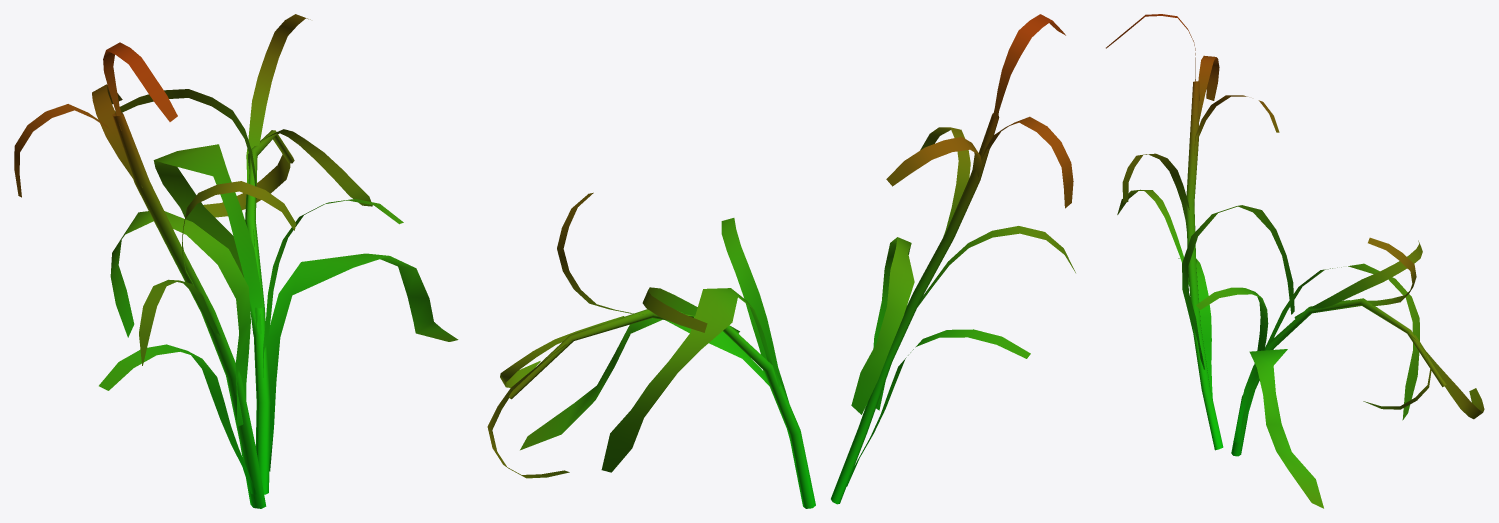
File: tjugaikia_Var4_LOD0.fbx
3 renders of one model, left to right at view 1: azimuth 30°, elevation 25°; view 2: azimuth 150°, elevation 25°; view 3: azimuth 270°, elevation 25°, orthographic. The views are drawn at different scales.
Parts seen in each view (by area): view 1: _b39d_Var4_LOD0; view 2: _b39d_Var4_LOD0; view 3: _b39d_Var4_LOD0.
Boxes of the visible parts, x1,y1,x2,y2 form: _b39d_Var4_LOD0: [14, 14, 458, 508]; _b39d_Var4_LOD0: [487, 14, 1075, 508]; _b39d_Var4_LOD0: [1106, 14, 1484, 508].
Bounding box in the file's own units: 24.98 × 24.65 × 22.55.
